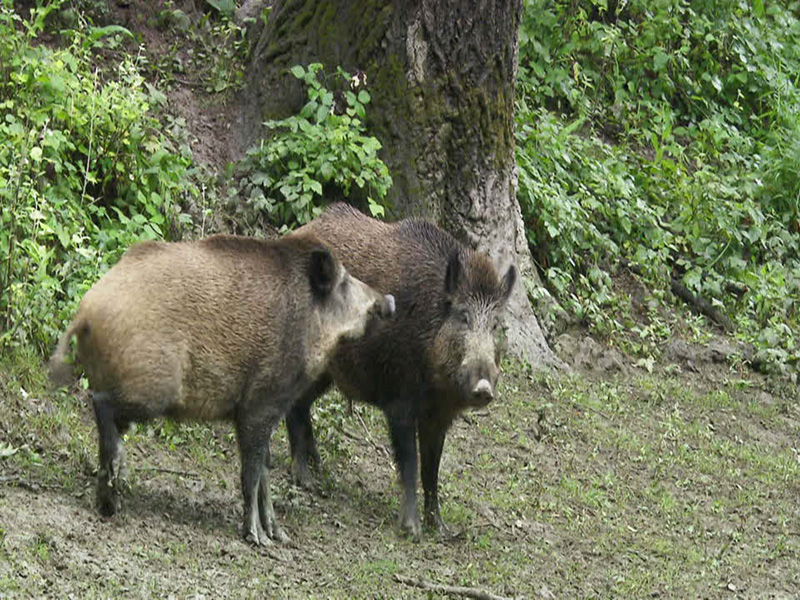cinghiale: (70, 234, 399, 530), (283, 198, 518, 538)
